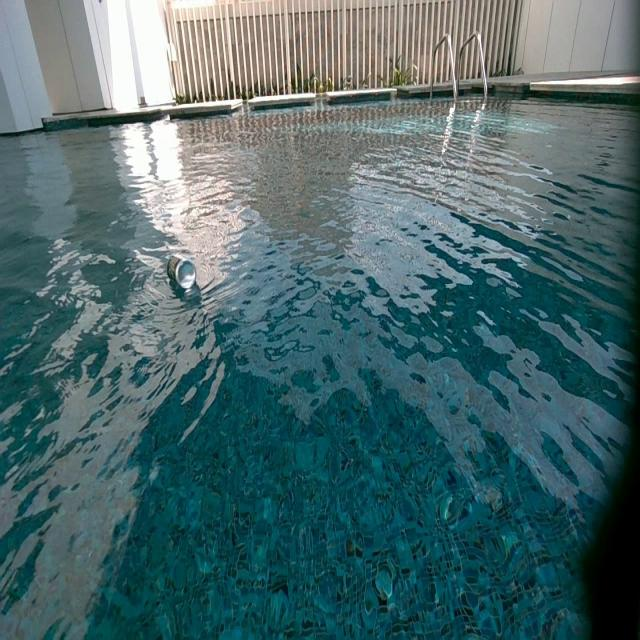Cans: (166, 255, 202, 291)
